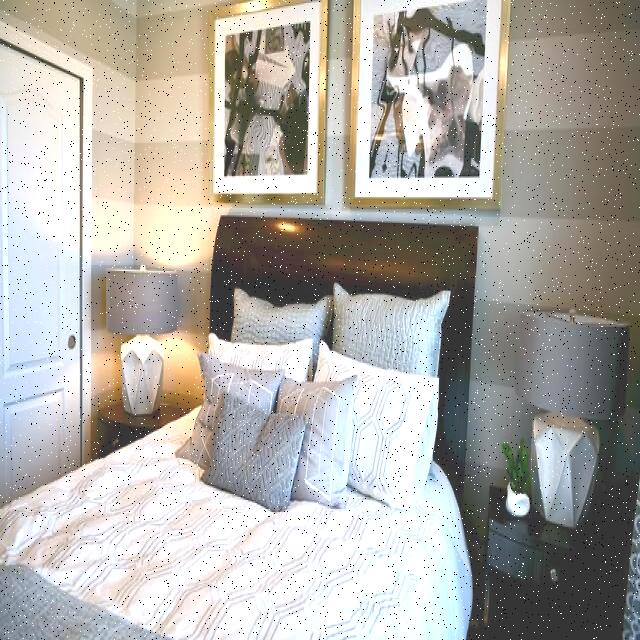bed: (7, 274, 461, 640)
